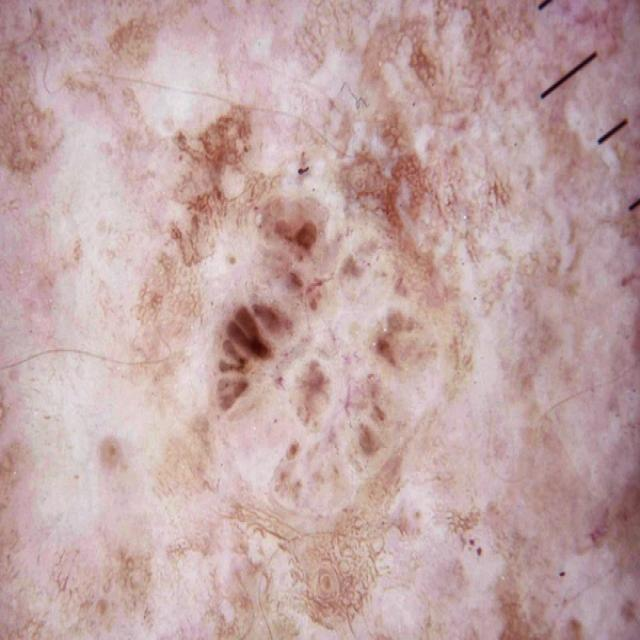Basal-Cell-Carcinoma-BCC-: (87, 62, 483, 549)
